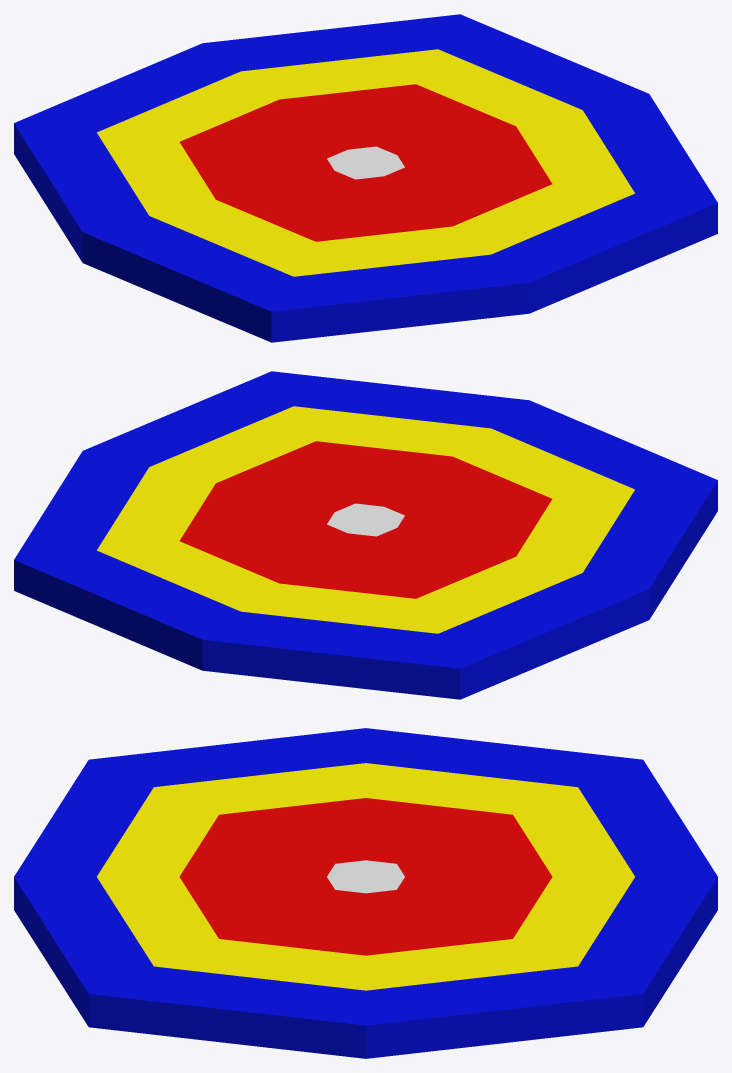
The model's file is jump_pit.fbx.
3 renders of one model, top to bottom at view 1: azimuth 30°, elevation 25°; view 2: azimuth 150°, elevation 25°; view 3: azimuth 270°, elevation 25°, orthographic. The views are drawn at different scales.
Visible parts, largest first — view 1: Cube; view 2: Cube; view 3: Cube.
Part boxes in pixels (left/top/right/bottom): Cube: left=14, top=14, right=717, bottom=342; Cube: left=14, top=371, right=717, bottom=699; Cube: left=14, top=728, right=717, bottom=1058.
Size of the model in its own units: 254 by 13.25 by 254.
